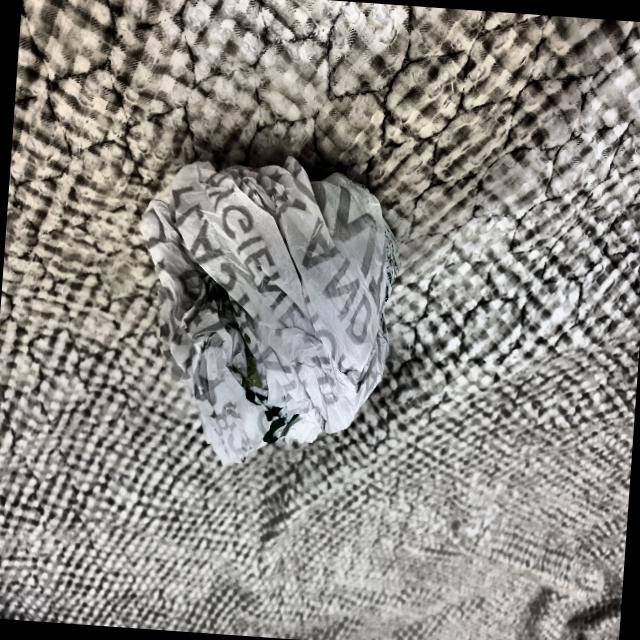plastic bag: (112, 128, 425, 492)
